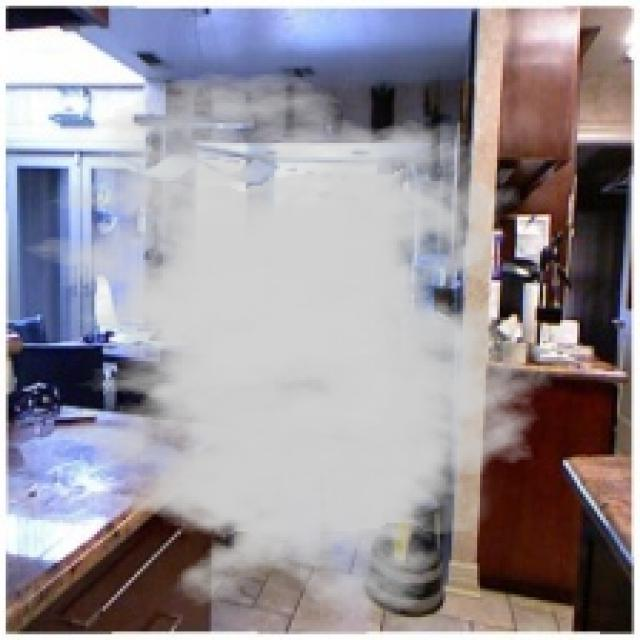smoke: (0, 71, 563, 620)
